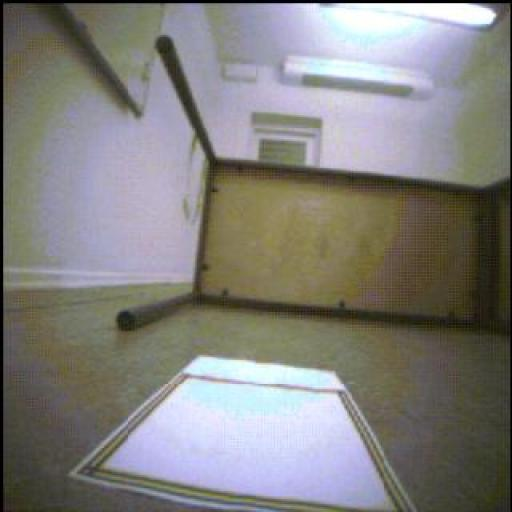Pad: (96, 354, 415, 512)
